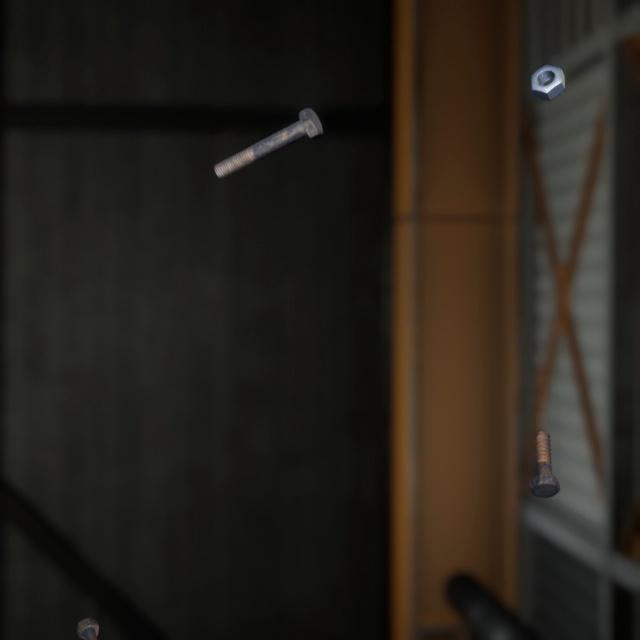bolt: (209, 89, 327, 169), (525, 406, 564, 481), (72, 589, 111, 640)
nut: (526, 49, 569, 94)
